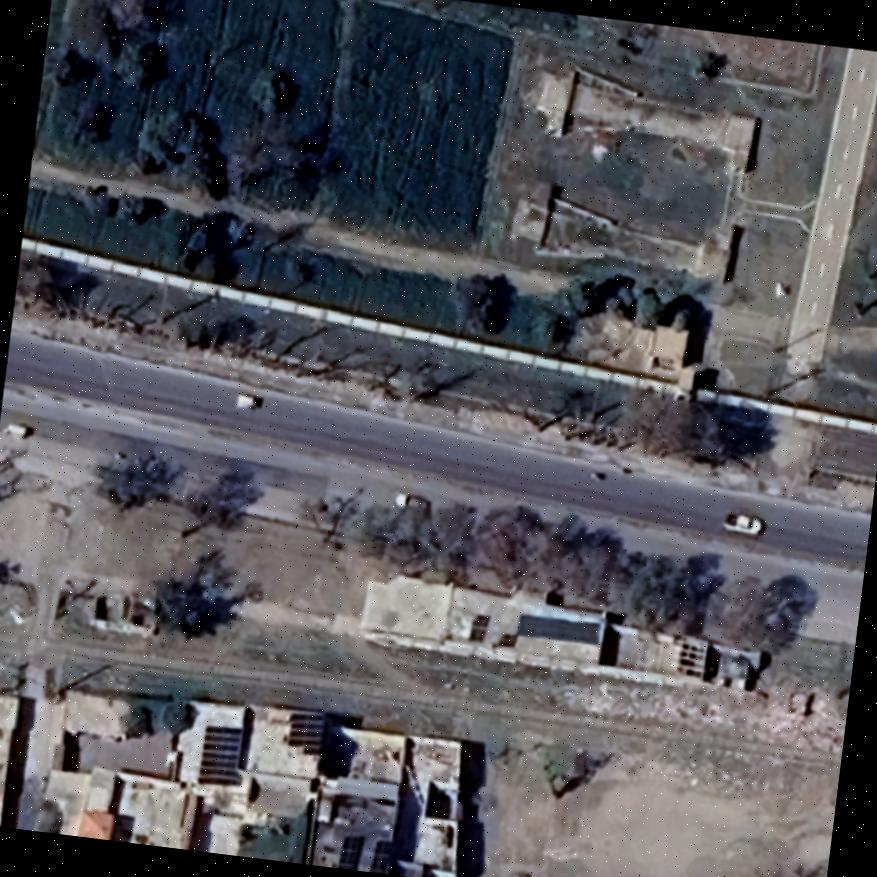Solarpanel: (192, 718, 251, 794), (281, 704, 335, 761), (332, 828, 369, 871), (367, 834, 399, 875)
